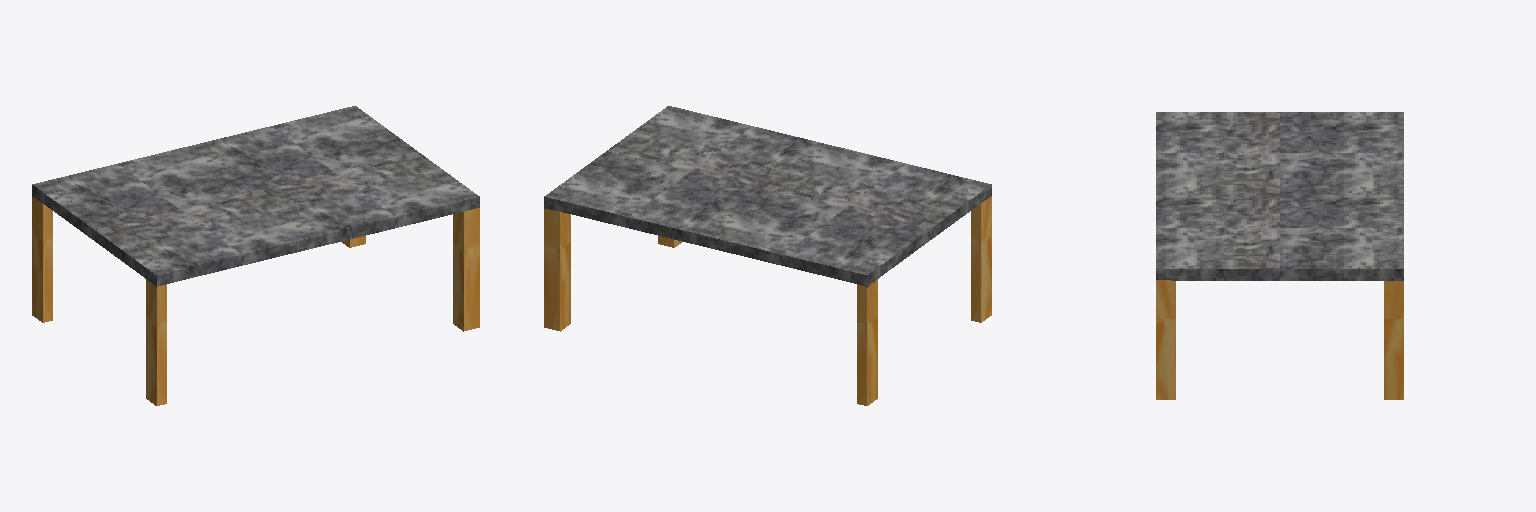
3 renders of one model, left to right at view 1: azimuth 30°, elevation 25°; view 2: azimuth 150°, elevation 25°; view 3: azimuth 270°, elevation 25°, orthographic.
Parts seen in each view (by area): view 1: Table_Cube.002; view 2: Table_Cube.002; view 3: Table_Cube.002.
Part boxes in pixels (x1,y1,x2,y2): Table_Cube.002: (32, 106, 479, 405); Table_Cube.002: (544, 106, 991, 405); Table_Cube.002: (1156, 112, 1403, 399).
Size of the model in its own units: 4.2 by 1.63 by 2.8.
Materials: 3 (2 with a texture image).